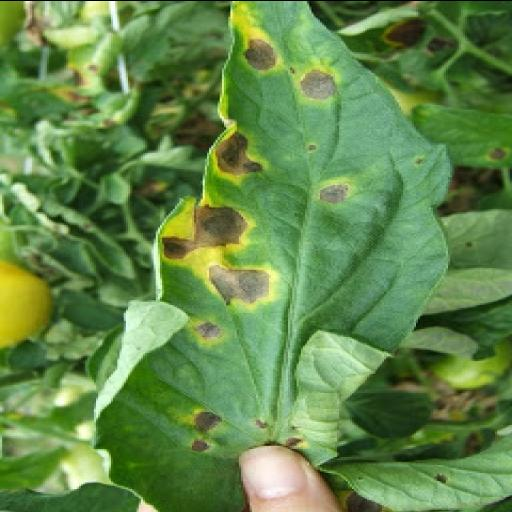Early Blight: (94, 0, 450, 512)
